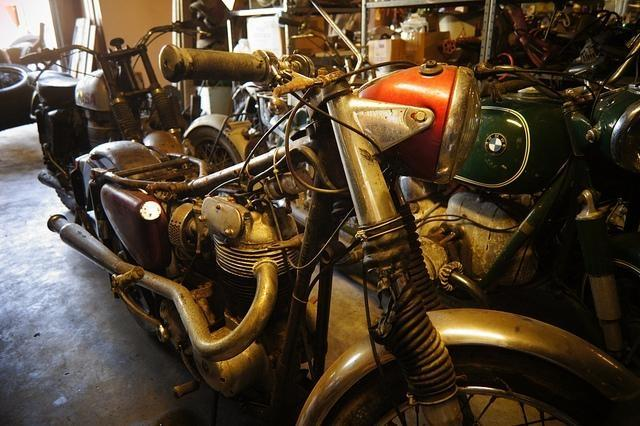motorcycle: (49, 49, 638, 421), (402, 34, 640, 376), (18, 23, 190, 213)
